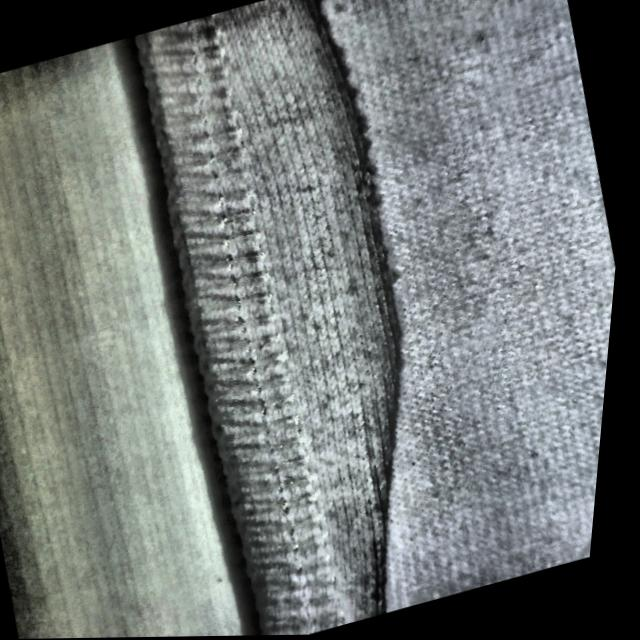seam: (92, 0, 545, 577)
